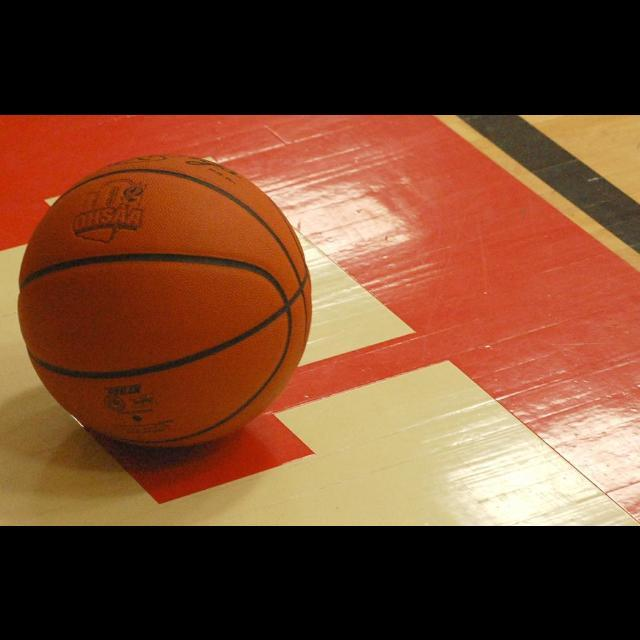basketball: (19, 152, 311, 446)
